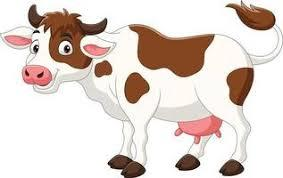cow: (0, 1, 283, 178)
